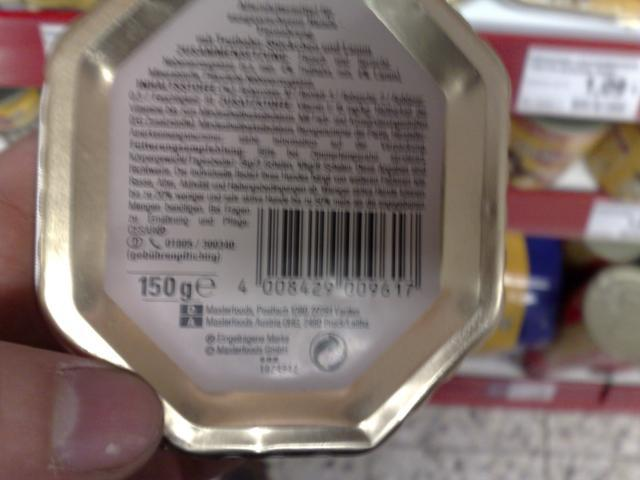Barcode: (236, 211, 428, 308)
